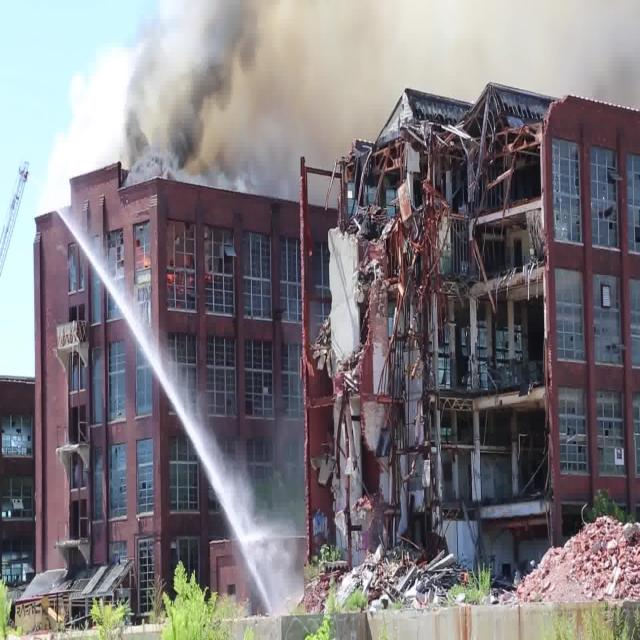Fire: (125, 232, 217, 297)
Smoke: (104, 0, 525, 283)
